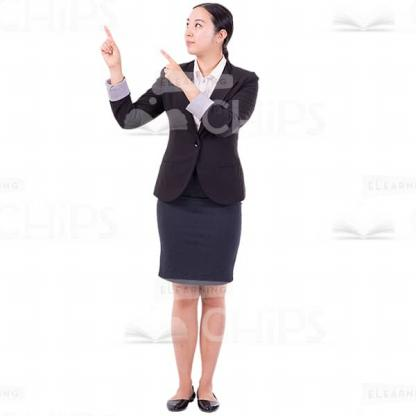Up: (146, 45, 194, 99), (91, 14, 125, 72)
